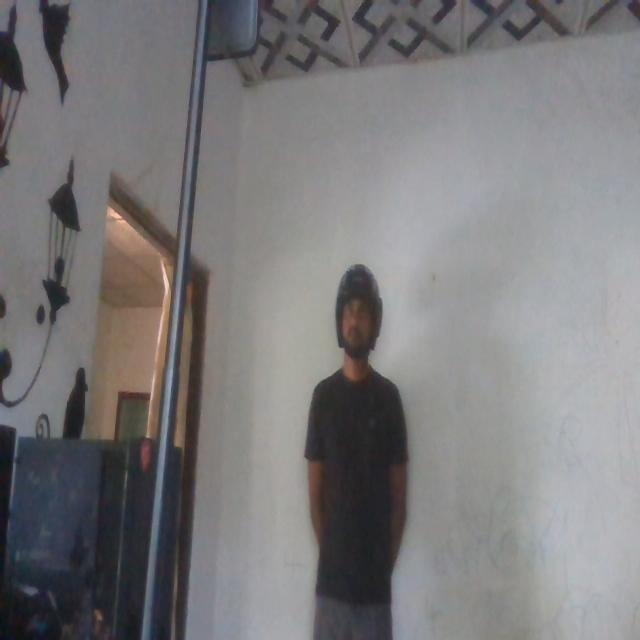Helmet_Wearer: (329, 262, 383, 379)
Person: (304, 262, 422, 640)
